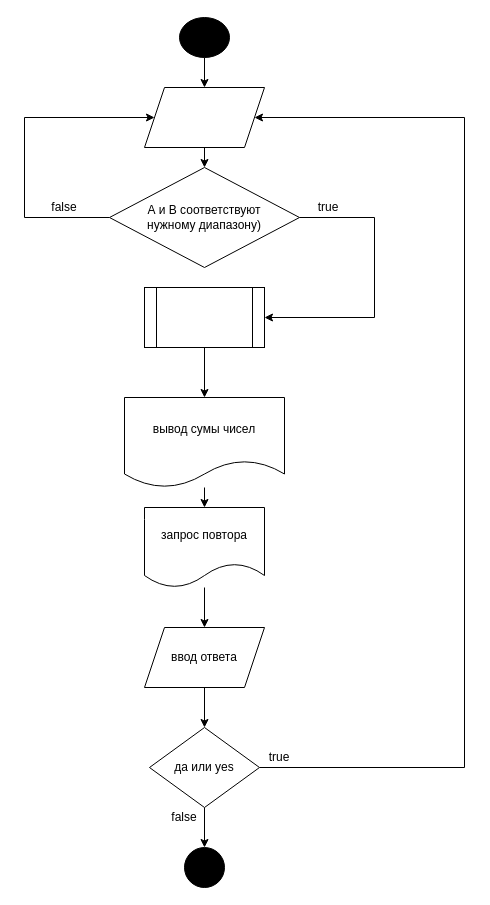
Some shapes in this 490 by 905 pixel diagram are drawn without their labels. Here are the shapes that lost their labels. From the top down, the centre of each, then its label:
point (204, 117): ввод чисел А и В
point (204, 317): func_sum(a, b){ c = a + b; }
